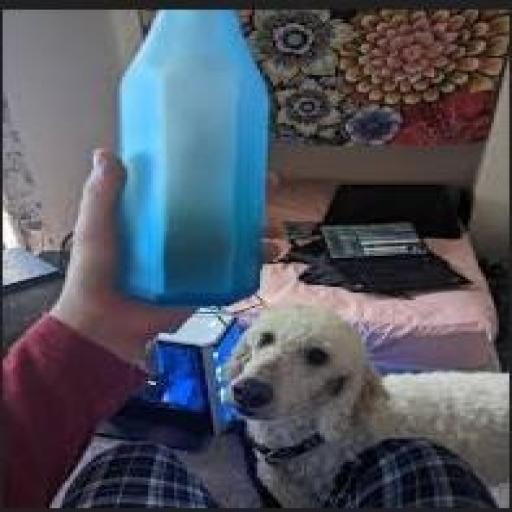bottle: (103, 0, 305, 304)
